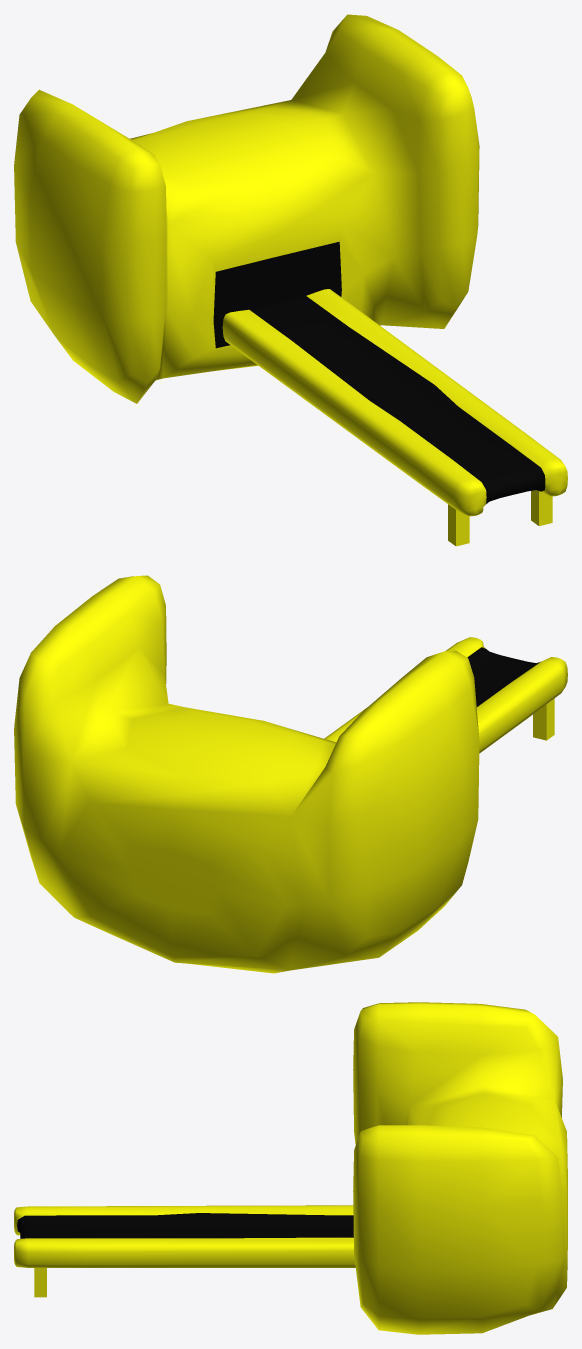
Rendered from conveyor belt.fbx.
3 renders of one model, top to bottom at view 1: azimuth 30°, elevation 25°; view 2: azimuth 150°, elevation 25°; view 3: azimuth 270°, elevation 25°, orthographic. The views are drawn at different scales.
Parts seen in each view (by area): view 1: Cube.002; view 2: Cube.002; view 3: Cube.002.
Part boxes in pixels (left/top/right/bottom): Cube.002: left=14, top=14, right=567, bottom=546; Cube.002: left=14, top=575, right=567, bottom=973; Cube.002: left=14, top=1002, right=567, bottom=1334.
Size of the model in its own units: 5771 by 3749 by 8749.
